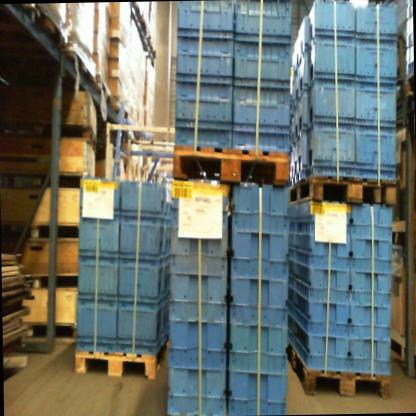pallet: (286, 336, 391, 400), (172, 142, 291, 188), (74, 339, 168, 381), (288, 172, 397, 207), (0, 120, 96, 154), (0, 167, 84, 192), (21, 2, 65, 49), (66, 41, 97, 85), (24, 320, 77, 345), (28, 222, 80, 242), (29, 273, 79, 292), (95, 73, 112, 107), (390, 337, 405, 361), (149, 39, 157, 58)
small_load_carrier: (225, 317, 291, 375), (296, 200, 352, 260), (166, 318, 227, 373), (172, 71, 234, 124), (168, 269, 228, 322), (230, 182, 292, 233), (170, 178, 229, 231), (228, 230, 289, 281), (175, 27, 234, 79), (294, 271, 350, 325), (166, 368, 228, 416), (232, 31, 291, 81), (227, 368, 288, 416), (228, 272, 289, 320), (295, 319, 349, 372), (232, 75, 291, 123), (169, 225, 228, 271), (306, 40, 356, 92), (349, 202, 394, 259), (306, 86, 356, 137), (116, 299, 162, 354), (348, 321, 392, 376), (295, 246, 350, 290), (306, 128, 356, 176), (307, 0, 355, 49), (75, 298, 119, 351), (353, 126, 396, 180), (233, 0, 292, 37), (117, 217, 165, 260), (76, 214, 119, 262), (175, 0, 234, 34), (354, 4, 398, 49), (75, 256, 118, 302), (355, 46, 397, 92), (118, 258, 162, 301), (173, 118, 233, 148), (356, 90, 397, 133), (232, 121, 290, 151), (117, 181, 164, 218), (78, 175, 118, 216), (349, 256, 392, 293), (349, 290, 393, 324), (160, 293, 168, 348), (296, 133, 307, 172), (297, 94, 307, 133), (298, 18, 308, 57), (298, 52, 307, 94), (162, 216, 170, 259), (405, 44, 414, 76), (161, 256, 168, 297), (405, 15, 413, 49), (293, 71, 299, 110), (293, 35, 299, 71), (293, 111, 298, 147), (163, 182, 168, 216), (293, 145, 298, 177), (405, 0, 413, 20)
